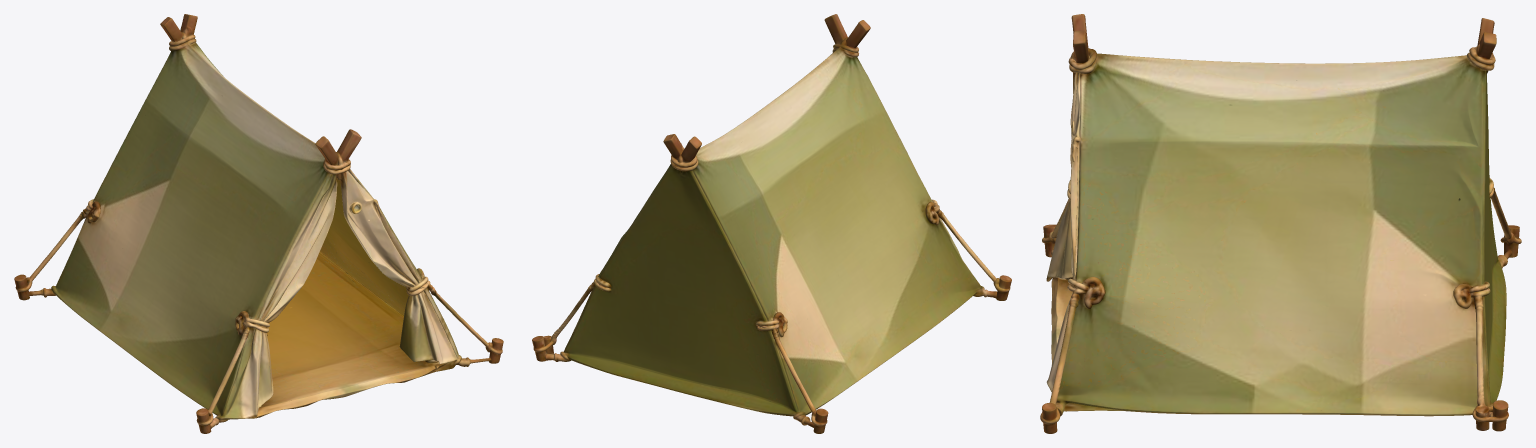
The picture shows the model from 3 angles, left to right: view 1: azimuth 30°, elevation 25°; view 2: azimuth 150°, elevation 25°; view 3: azimuth 270°, elevation 25°; orthographic projection. The views are drawn at different scales.
Parts seen in each view (by area): view 1: node_0; view 2: node_0; view 3: node_0.
Part boxes in pixels (x1,y1,x2,y2): node_0: [14, 14, 503, 433]; node_0: [532, 14, 1011, 433]; node_0: [1040, 14, 1521, 433].
Size of the model in its own units: 0.7321 by 0.5854 by 0.7954.
Materials: 1 (1 with a texture image).
